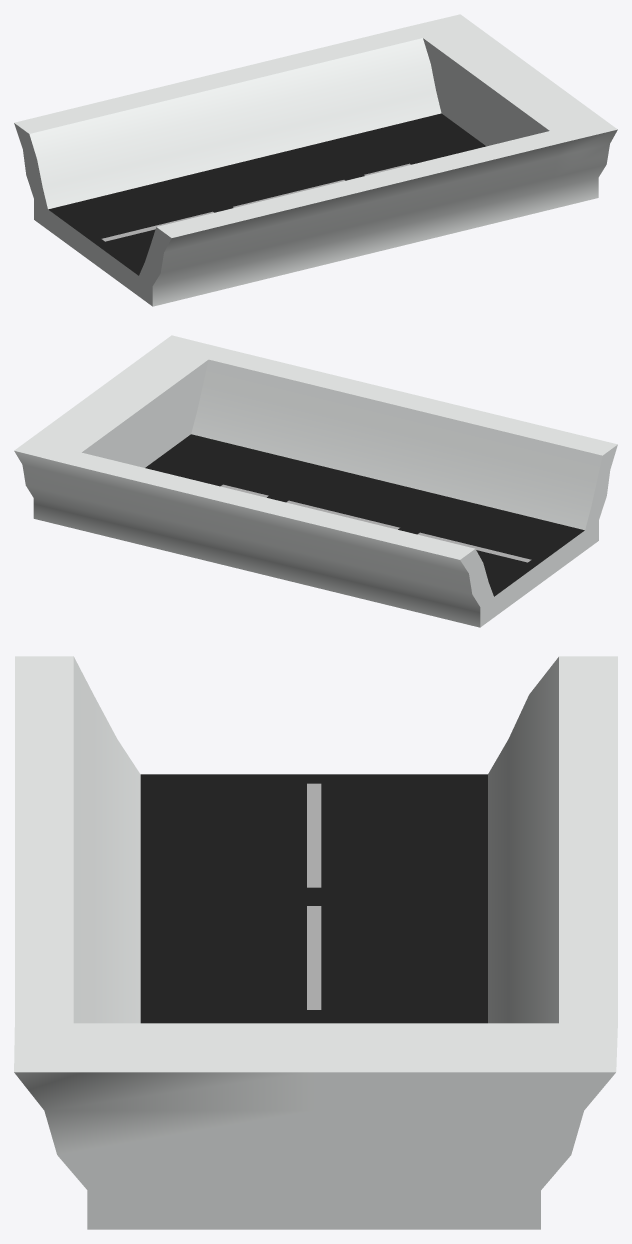
File: cuoi duong.fbx
3 views of the same model, one above another, from view 1: azimuth 30°, elevation 25°; view 2: azimuth 150°, elevation 25°; view 3: azimuth 270°, elevation 25° (orthographic). The views are drawn at different scales.
Visible parts, largest first — view 1: cuoi_duong; view 2: cuoi_duong; view 3: cuoi_duong.
Part boxes in pixels (x1,y1,x2,y2): cuoi_duong: (14,14,617,306); cuoi_duong: (14,335,617,627); cuoi_duong: (14,656,617,1229).
Bounding box in the file's own units: 34 × 6 × 20.86.
1 material, 1 textured.
